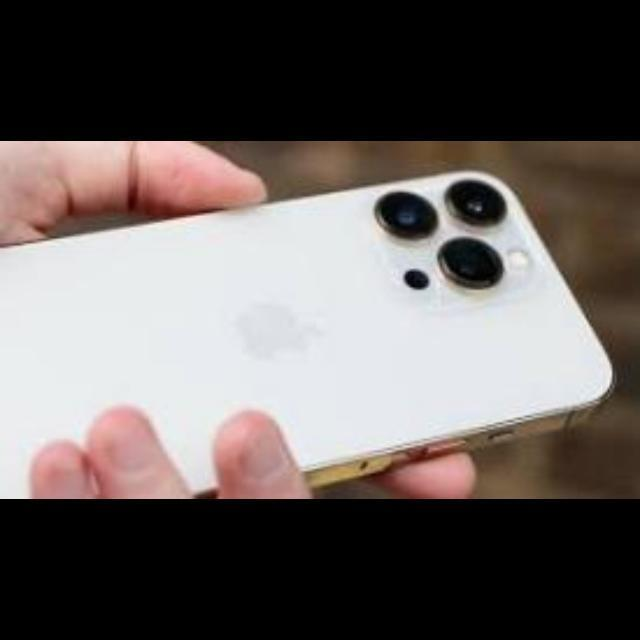phone: (1, 167, 637, 486)
